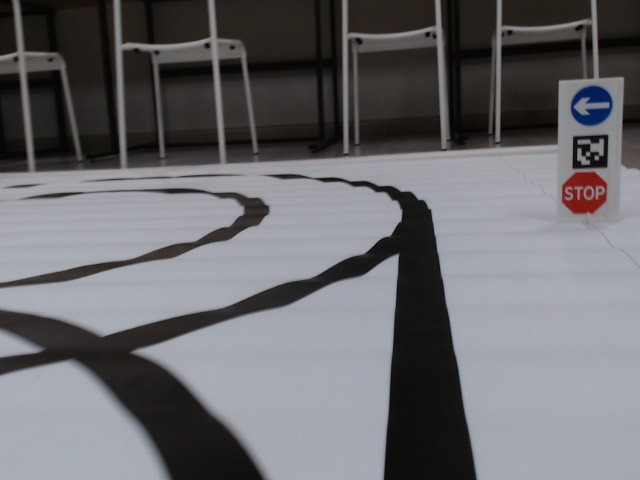Stop: (560, 171, 609, 215)
